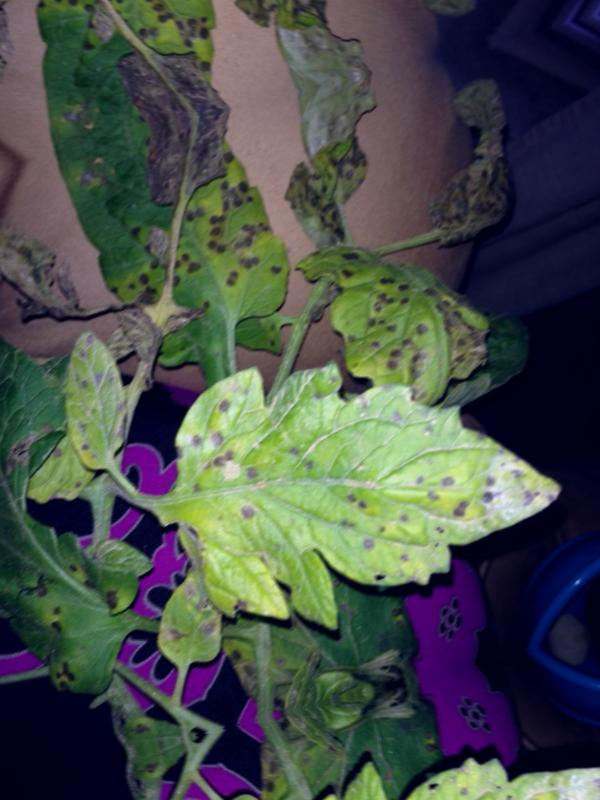Tomato Septoria leaf spot: (136, 305, 594, 663), (0, 302, 170, 745), (291, 198, 511, 447), (138, 151, 306, 353), (38, 293, 160, 489), (145, 563, 244, 695)
